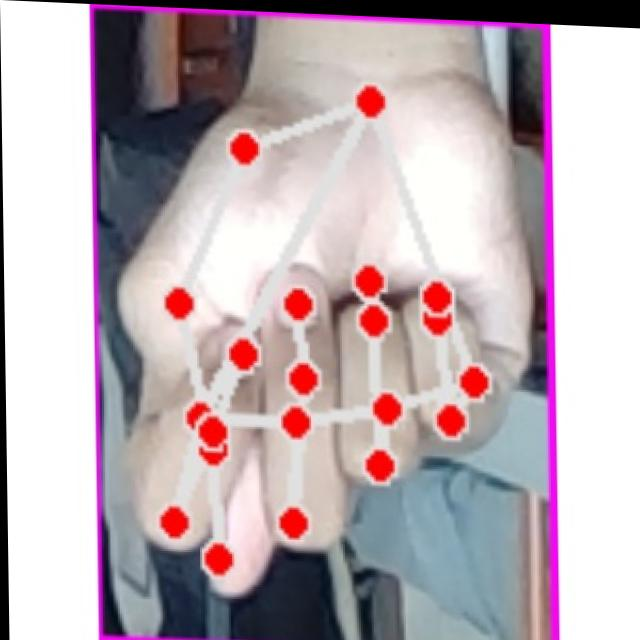T: (122, 54, 541, 624)
